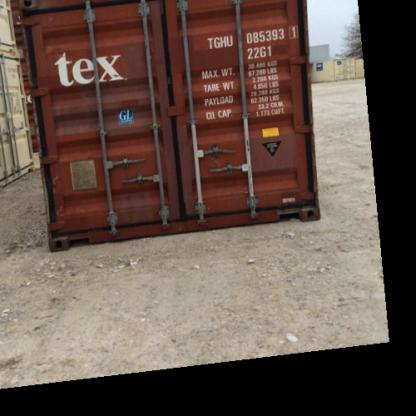Damage: (43, 167, 68, 217)
